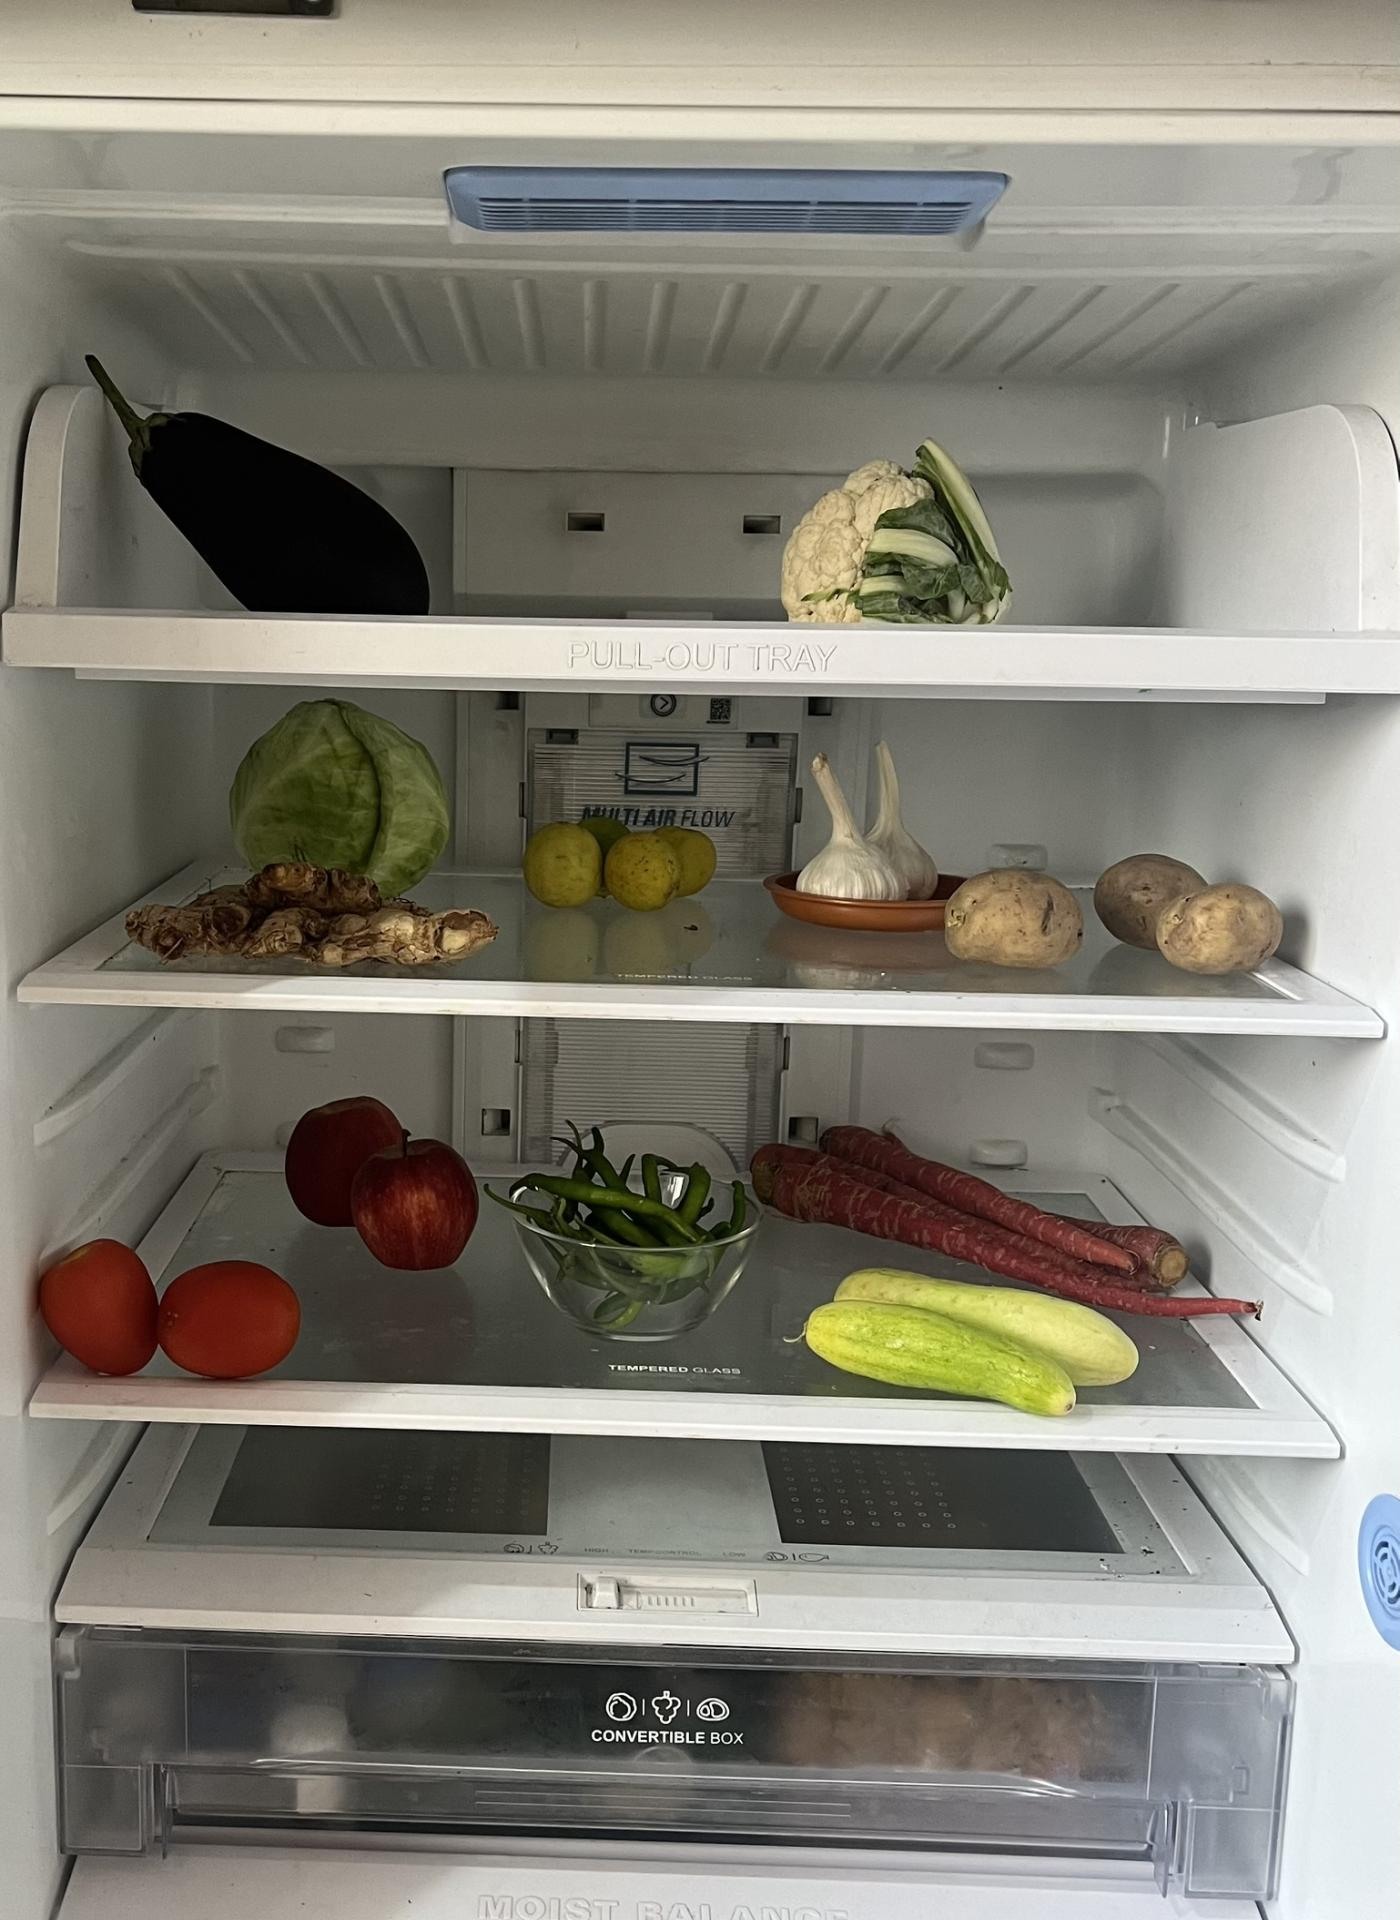apple: (292, 1093, 479, 1269)
brinjal: (92, 355, 429, 617)
cabbage: (236, 707, 447, 894)
carrots: (751, 1117, 1245, 1316)
cauliflower: (780, 444, 1018, 622)
chillies: (496, 1121, 744, 1352)
cucumber: (807, 1272, 1145, 1407)
garlic: (807, 741, 939, 908)
ginger: (119, 863, 494, 970)
lemon: (525, 823, 723, 908)
potato: (944, 854, 1278, 973)
tomato: (42, 1236, 298, 1380)
